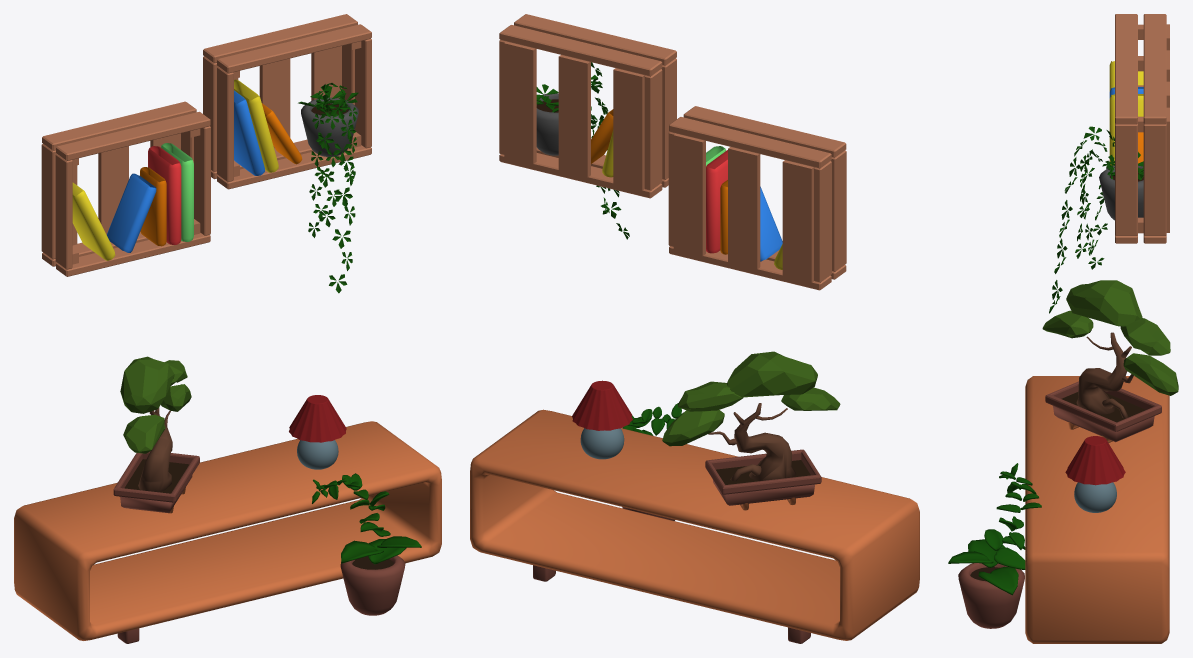
Rendered from d-moebel-komp-2.glb.
3 renders of one model, left to right at view 1: azimuth 30°, elevation 25°; view 2: azimuth 150°, elevation 25°; view 3: azimuth 270°, elevation 25°, orthographic. The views are drawn at different scales.
Parts seen in each view (by area): view 1: Cube.002; view 2: Cube.002; view 3: Cube.002.
Part boxes in pixels (bbox=[...]): Cube.002: bbox=[14, 14, 441, 643]; Cube.002: bbox=[470, 14, 919, 643]; Cube.002: bbox=[948, 14, 1178, 643].
Size of the model in its own units: 1.58 by 2.16 by 0.8417.
1 material, 1 textured.
